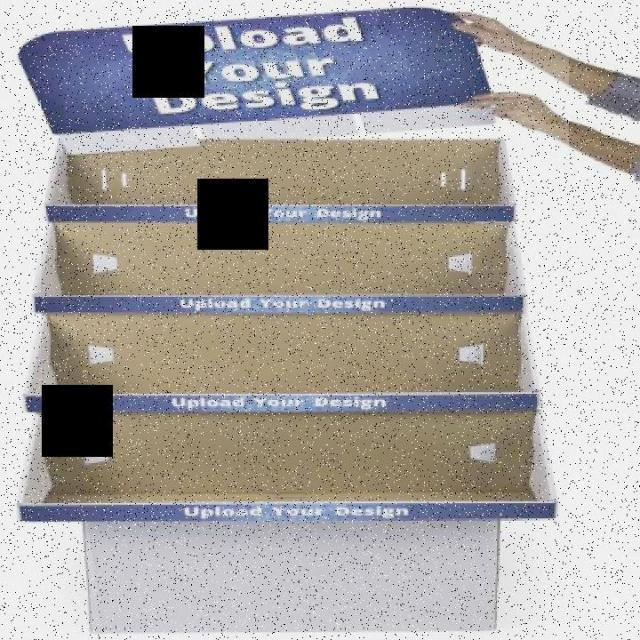box: (5, 1, 569, 640)
